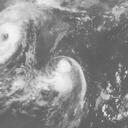cyclone: (49, 56, 81, 99), (0, 21, 21, 64)
